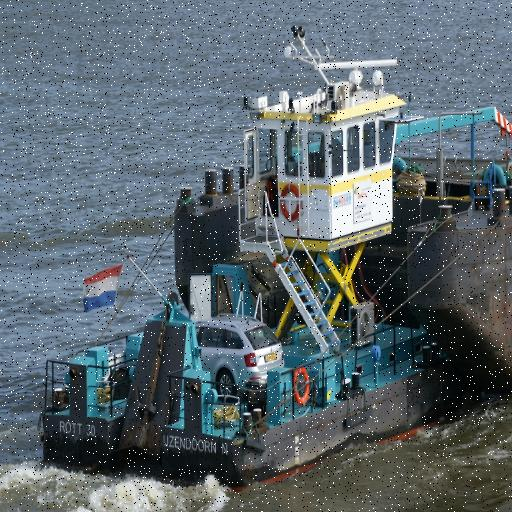tugboat: (35, 24, 451, 508)
